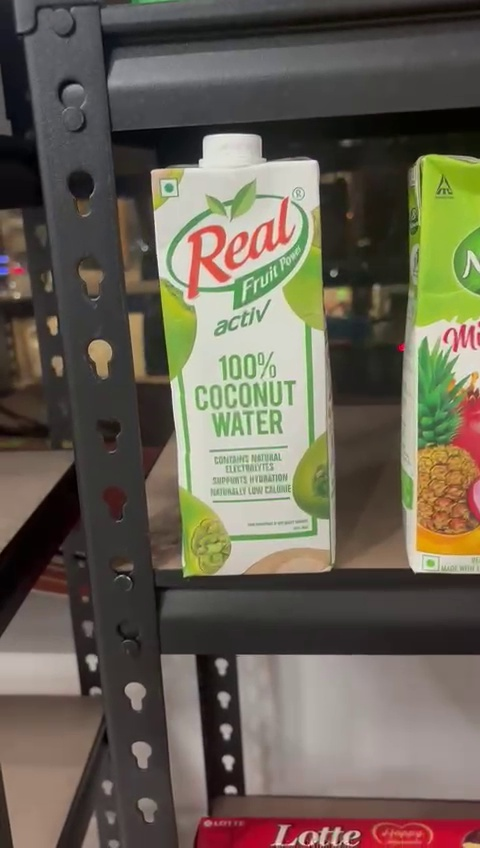Coconut water: (150, 130, 341, 575)
